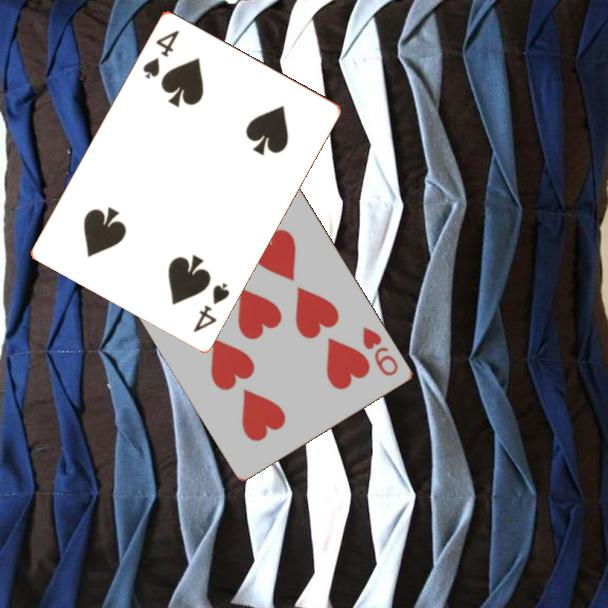h09: (359, 323, 402, 379)
s04: (189, 278, 232, 335), (139, 26, 182, 82)
